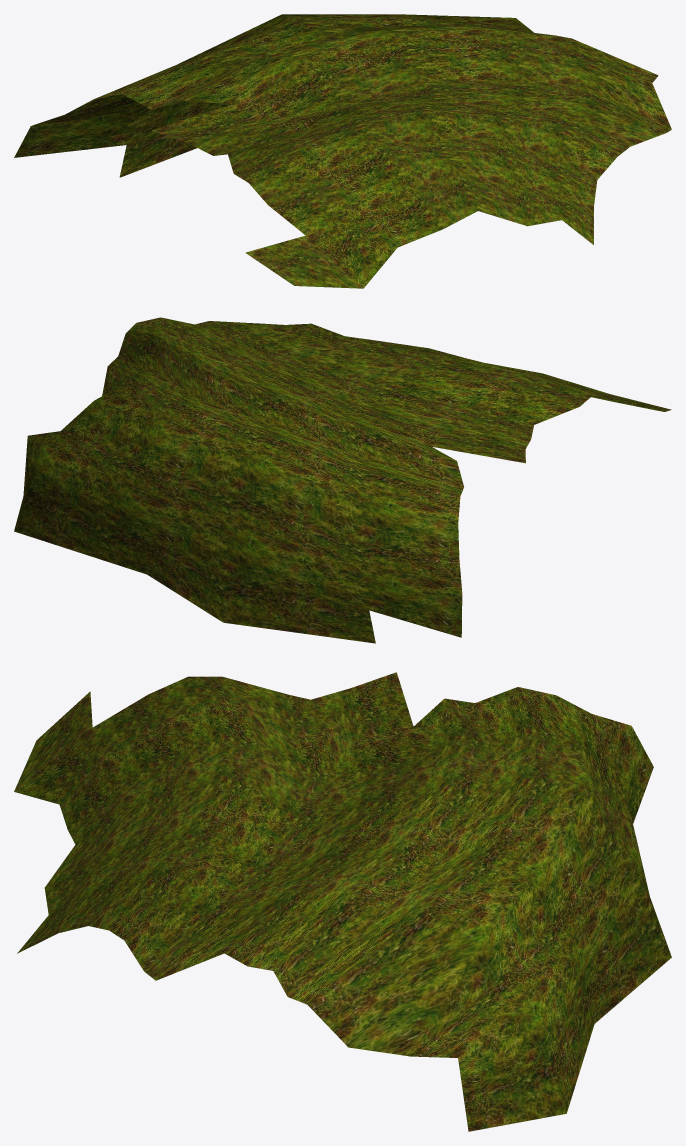
File: TROLLHOLE02_LUKEGROUND04.fbx
3 views of the same model, one above another, from view 1: azimuth 30°, elevation 25°; view 2: azimuth 150°, elevation 25°; view 3: azimuth 270°, elevation 25° (orthographic). The views are drawn at different scales.
Visible parts, largest first — view 1: TROLLHOLE02_LUKEGROUND04; view 2: TROLLHOLE02_LUKEGROUND04; view 3: TROLLHOLE02_LUKEGROUND04.
Part boxes in pixels (left/top/right/bottom): TROLLHOLE02_LUKEGROUND04: left=14, top=14, right=671, bottom=288; TROLLHOLE02_LUKEGROUND04: left=14, top=317, right=671, bottom=643; TROLLHOLE02_LUKEGROUND04: left=14, top=672, right=671, bottom=1131.
Bounding box in the file's own units: 295213 × 86736 × 257627.
1 material, 1 textured.
